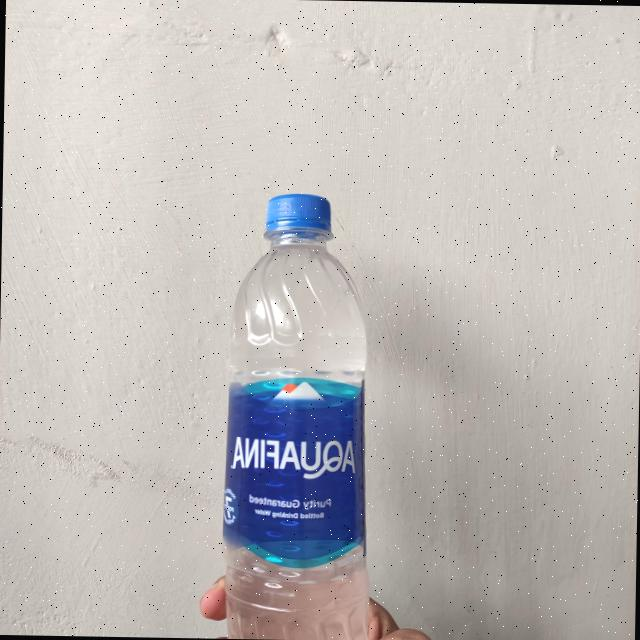bottle: (213, 185, 386, 640)
cap: (260, 189, 337, 243)
label: (228, 374, 377, 580)
